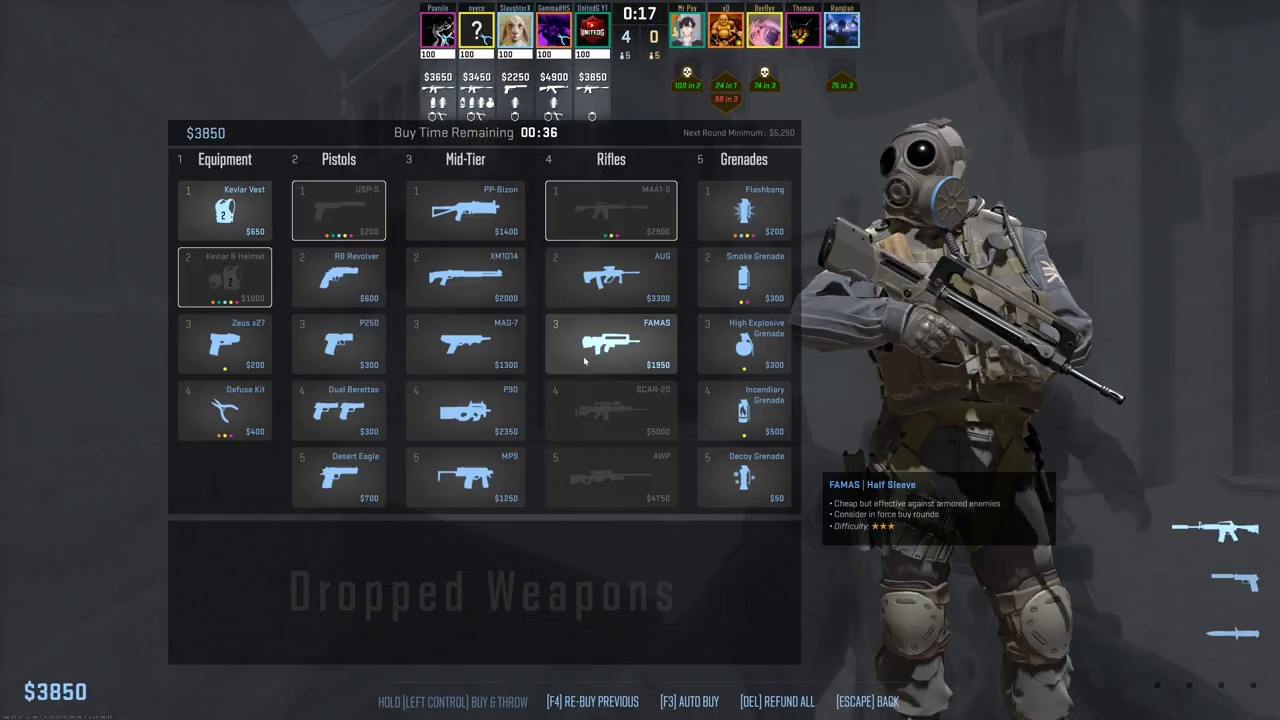CT: (857, 125, 1077, 716)
